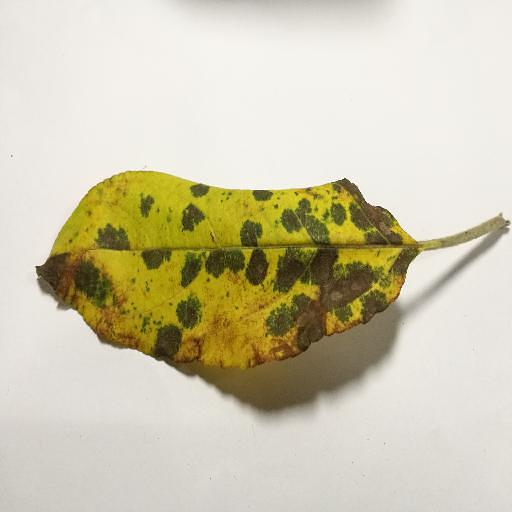Brown_Spot: (261, 249, 405, 344), (14, 255, 128, 332), (327, 170, 411, 245), (162, 339, 292, 372)
